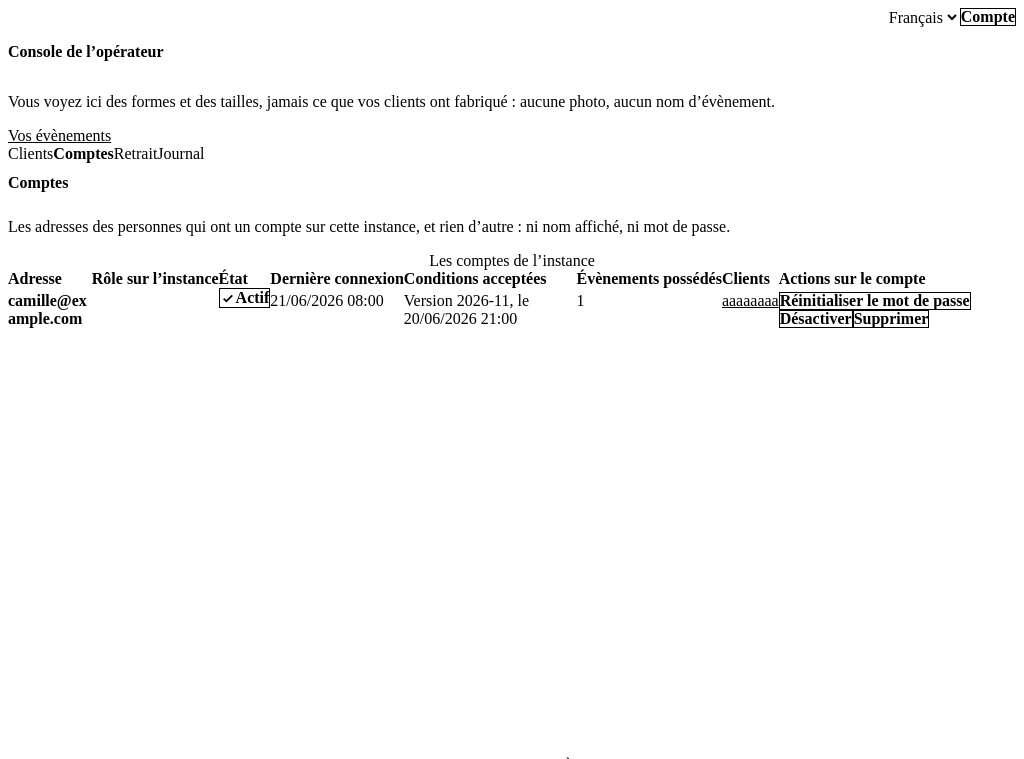
the console’s accounts: resetting a password › says the request is waiting for another owner, and fetches the link once it is approved
Click the button "Réinitialiser le mot de passe". click: (875, 301)
box: [779, 292, 971, 310]
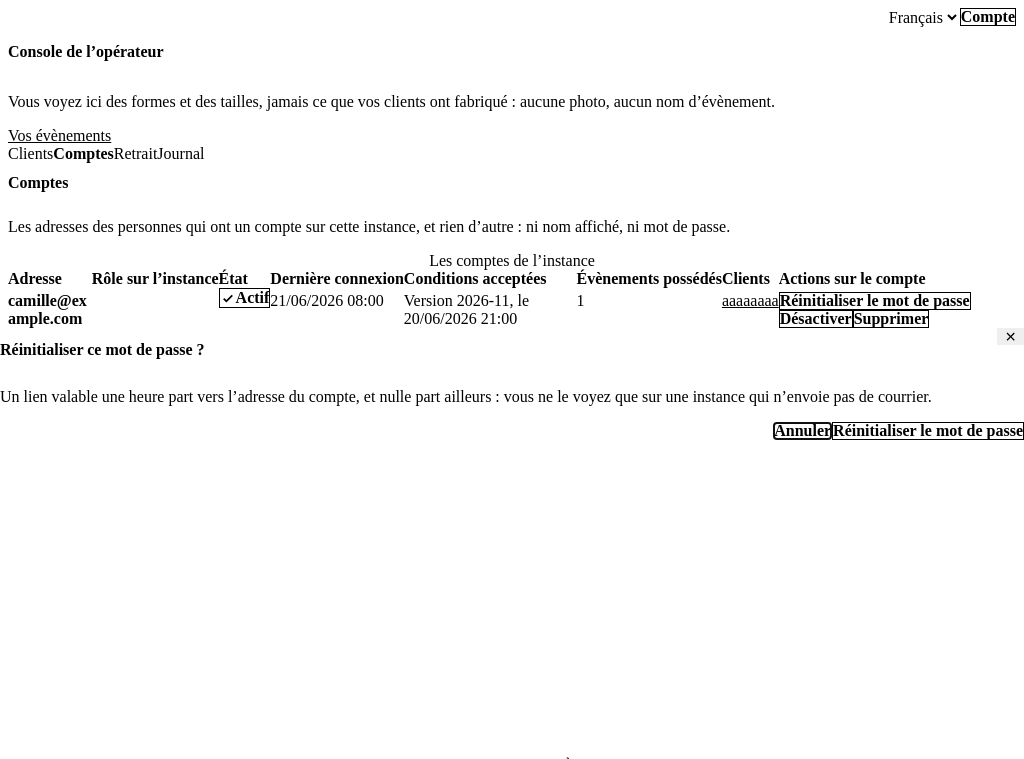
Click the button "Réinitialiser le mot de passe". click: (928, 431)
box: [832, 422, 1023, 440]
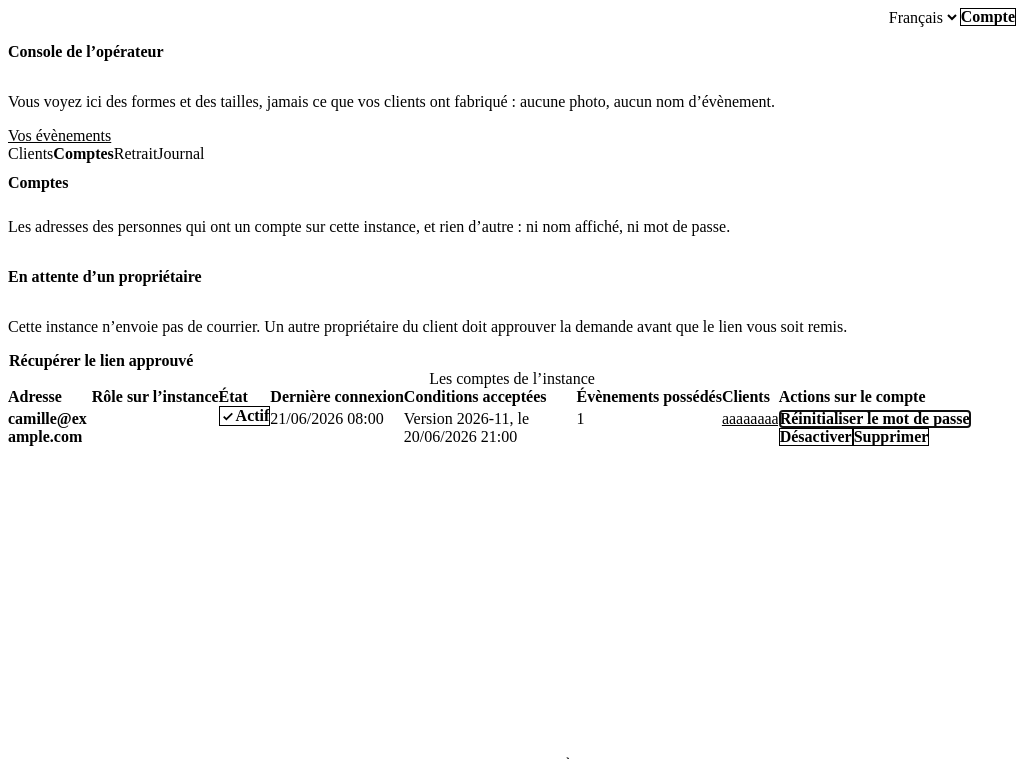
Expected: the text "password/reset" is not shown
Expected: the heading "En attente d’un propriétaire" is shown, [8, 268, 202, 285]
Expected: the text "Cette instance n’envoie pas de courrier. Un autre propriétaire du client doit approuver la demande avant que le lien vou" is shown, [8, 318, 847, 335]
Click the button "Récupérer le lien approuvé". click: (101, 361)
box: [8, 352, 194, 370]
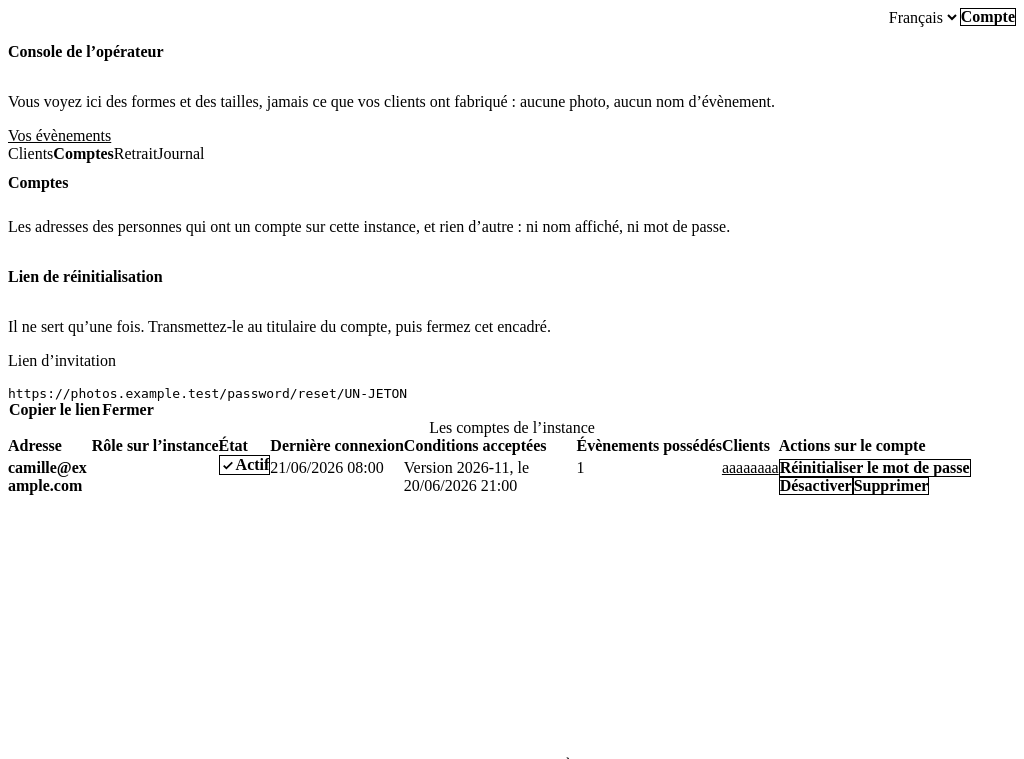
Expected: the text "https://photos.example.test/password/reset/UN-JETON" is shown, [8, 386, 407, 401]
